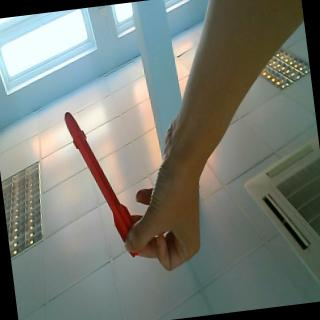Rocket: (62, 105, 134, 246)
